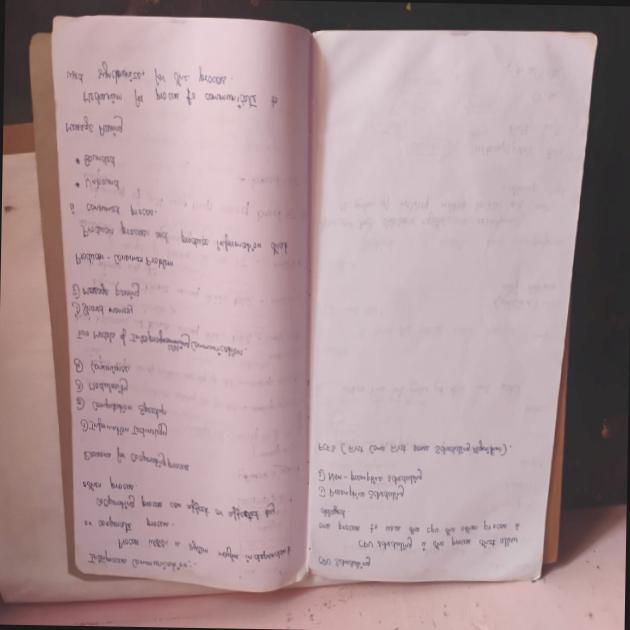notebook: (19, 13, 608, 619)
